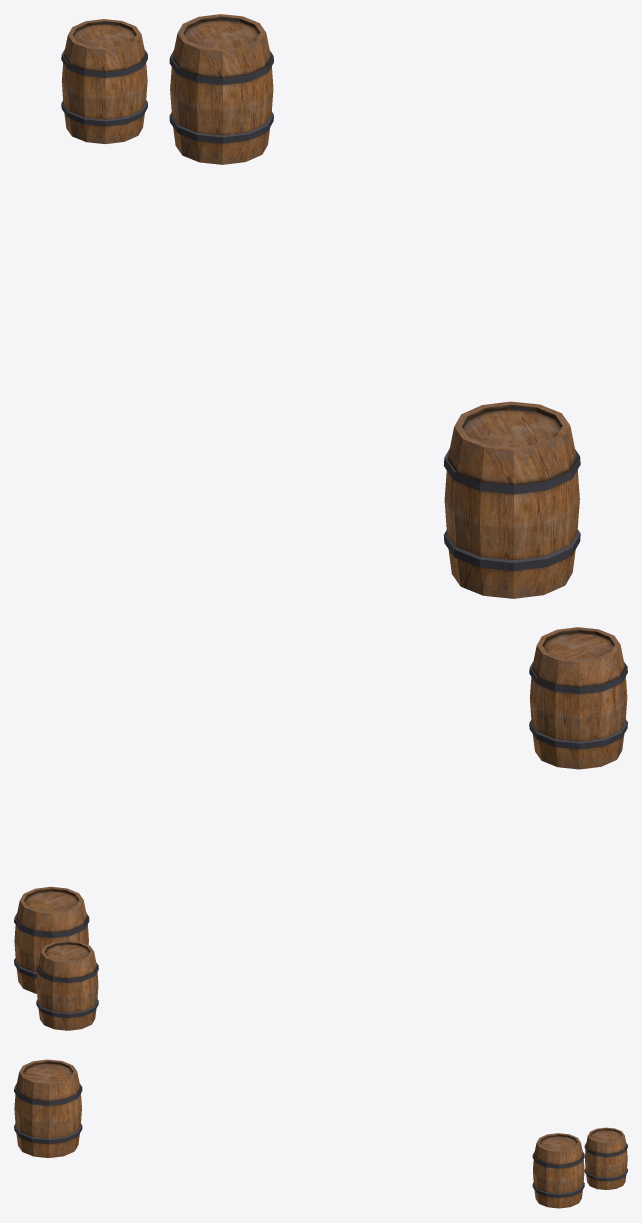
File: Arena_Wood_Barrels.fbx
3 renders of one model, top to bottom at view 1: azimuth 30°, elevation 25°; view 2: azimuth 150°, elevation 25°; view 3: azimuth 270°, elevation 25°, orthographic. The views are drawn at different scales.
Visible parts, largest first — view 1: Cylinder.041, Cylinder.063, Cylinder.039; view 2: Cylinder.041, Cylinder.039, Cylinder.063; view 3: Cylinder.041, Cylinder.063, Cylinder.039.
Boxes of the visible parts, x1,y1,x2,y2 form: Cylinder.041: [443, 401, 580, 598]; Cylinder.063: [169, 14, 273, 164]; Cylinder.039: [61, 19, 147, 144]; Cylinder.041: [529, 627, 627, 769]; Cylinder.039: [36, 940, 98, 1030]; Cylinder.063: [14, 886, 89, 993]; Cylinder.041: [14, 1059, 82, 1157]; Cylinder.063: [532, 1133, 584, 1208]; Cylinder.039: [584, 1127, 627, 1189].
Size of the model in its own units: 319 by 138 by 1044.
